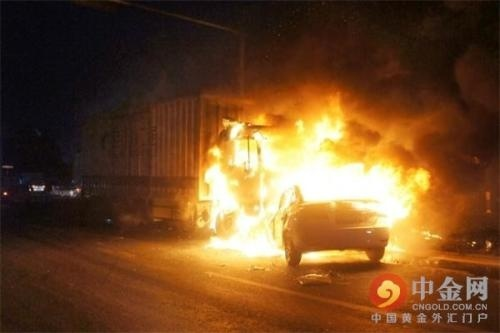fire: (197, 105, 441, 261)
